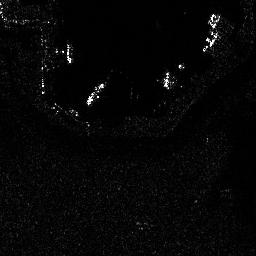ship: (86, 81, 104, 105), (66, 43, 74, 64)
